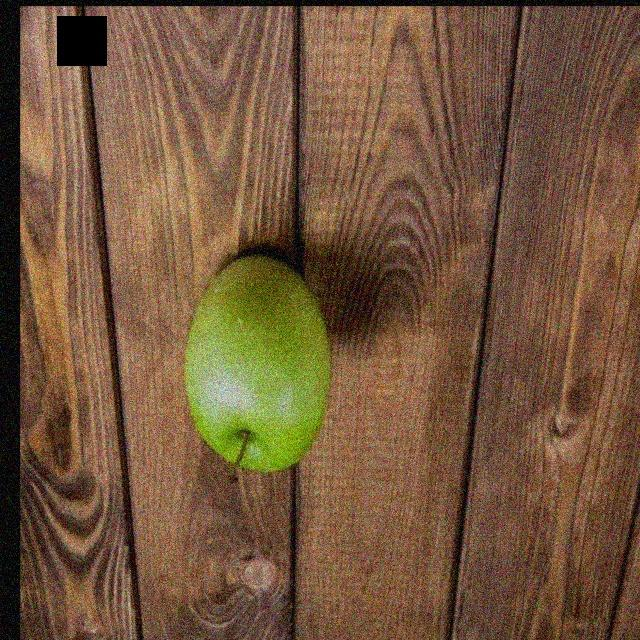green apple: (184, 251, 347, 479)
